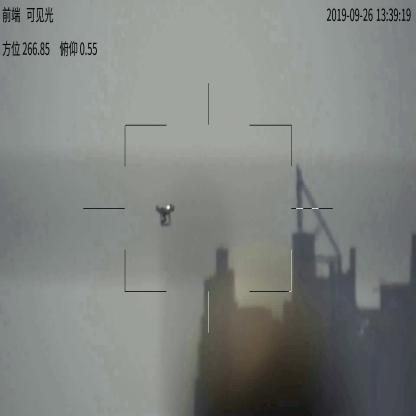uav: (153, 203, 180, 228)
